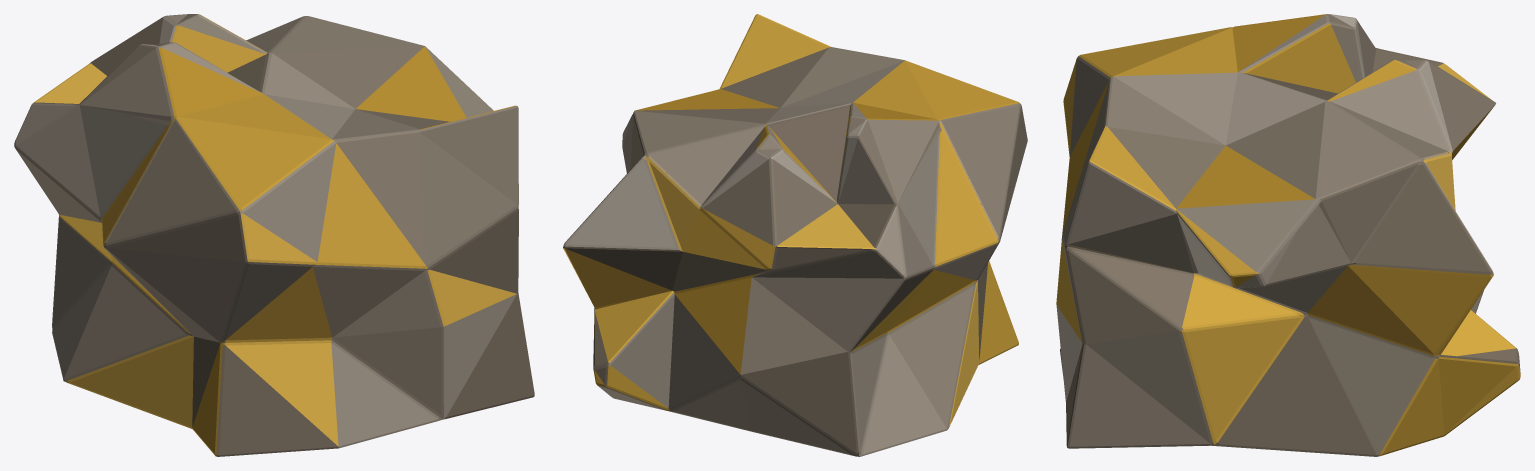
Rendered from MineableGold_a.glb.
3 renders of one model, left to right at view 1: azimuth 30°, elevation 25°; view 2: azimuth 150°, elevation 25°; view 3: azimuth 270°, elevation 25°, orthographic. The views are drawn at different scales.
Parts seen in each view (by area): view 1: MineableGold_a; view 2: MineableGold_a; view 3: MineableGold_a.
Boxes of the visible parts, x1,y1,x2,y2 form: MineableGold_a: [14, 14, 534, 456]; MineableGold_a: [563, 14, 1027, 456]; MineableGold_a: [1056, 14, 1520, 456].
Size of what is drawn, in the model's own units: 0.7953 by 0.5988 by 0.7986.
1 material, 1 textured.
